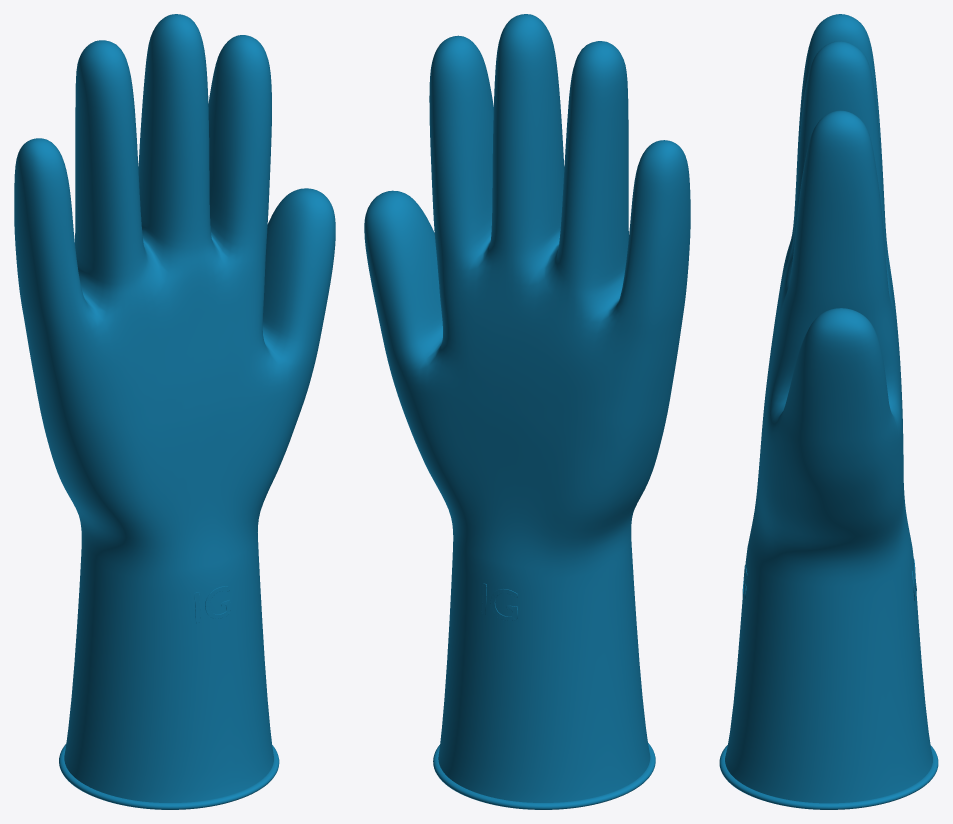
File: diamond-8-mil--blue.glb
3 renders of one model, left to right at view 1: azimuth 30°, elevation 25°; view 2: azimuth 150°, elevation 25°; view 3: azimuth 270°, elevation 25°, orthographic. The views are drawn at different scales.
Parts seen in each view (by area): view 1: pCube8; view 2: pCube8; view 3: pCube8.
Part boxes in pixels (bbox=[...]): pCube8: bbox=[14, 14, 335, 809]; pCube8: bbox=[364, 14, 690, 809]; pCube8: bbox=[719, 14, 938, 809].
Size of the model in its own units: 0.1266 by 0.2903 by 0.079.
